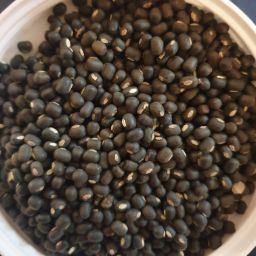Black Gram(urad daal): (26, 18, 245, 240), (46, 1, 227, 256), (162, 37, 256, 238), (1, 53, 81, 247), (86, 80, 158, 209)
